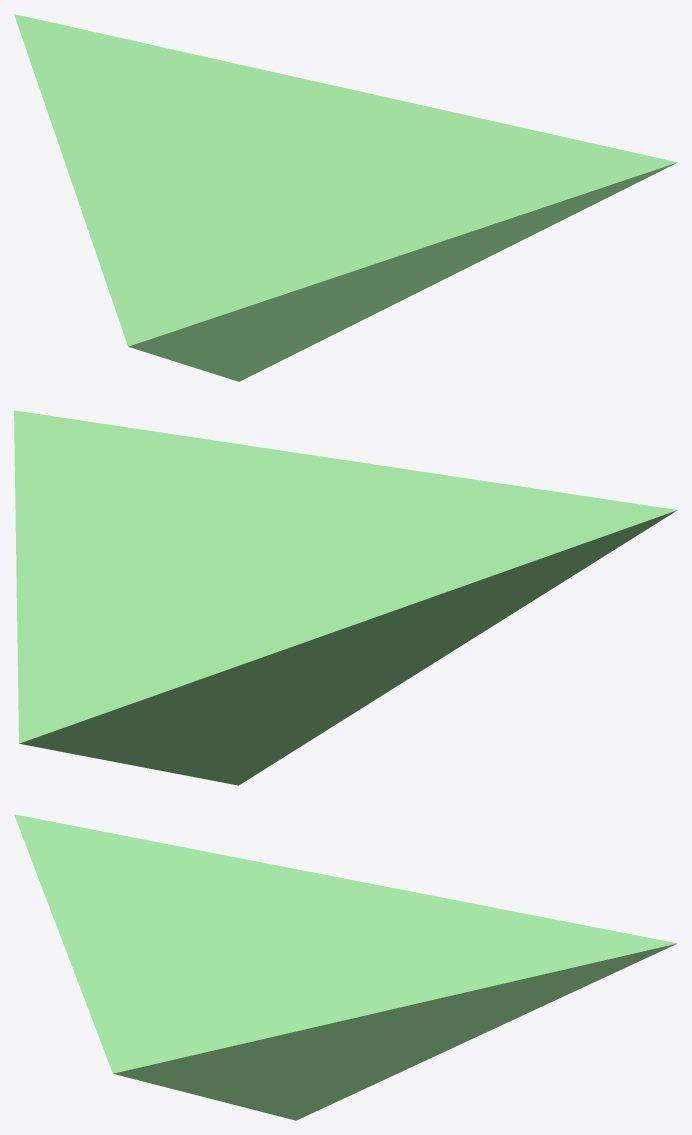
Rendered from linkhou_LR4_R560_link3_respondable_coll_1.dae.
3 views of the same model, one above another, from view 1: azimuth 30°, elevation 25°; view 2: azimuth 150°, elevation 25°; view 3: azimuth 270°, elevation 25° (orthographic). The views are drawn at different scales.
Visible parts, largest first — view 1: Node_00000209DB3AB530; view 2: Node_00000209DB3AB530; view 3: Node_00000209DB3AB530.
Part boxes in pixels (bbox=[...]): Node_00000209DB3AB530: bbox=[14, 14, 677, 381]; Node_00000209DB3AB530: bbox=[14, 410, 677, 785]; Node_00000209DB3AB530: bbox=[14, 814, 677, 1120].
Size of the model in its own units: 0.000712 by 0.00025 by 0.000786.
